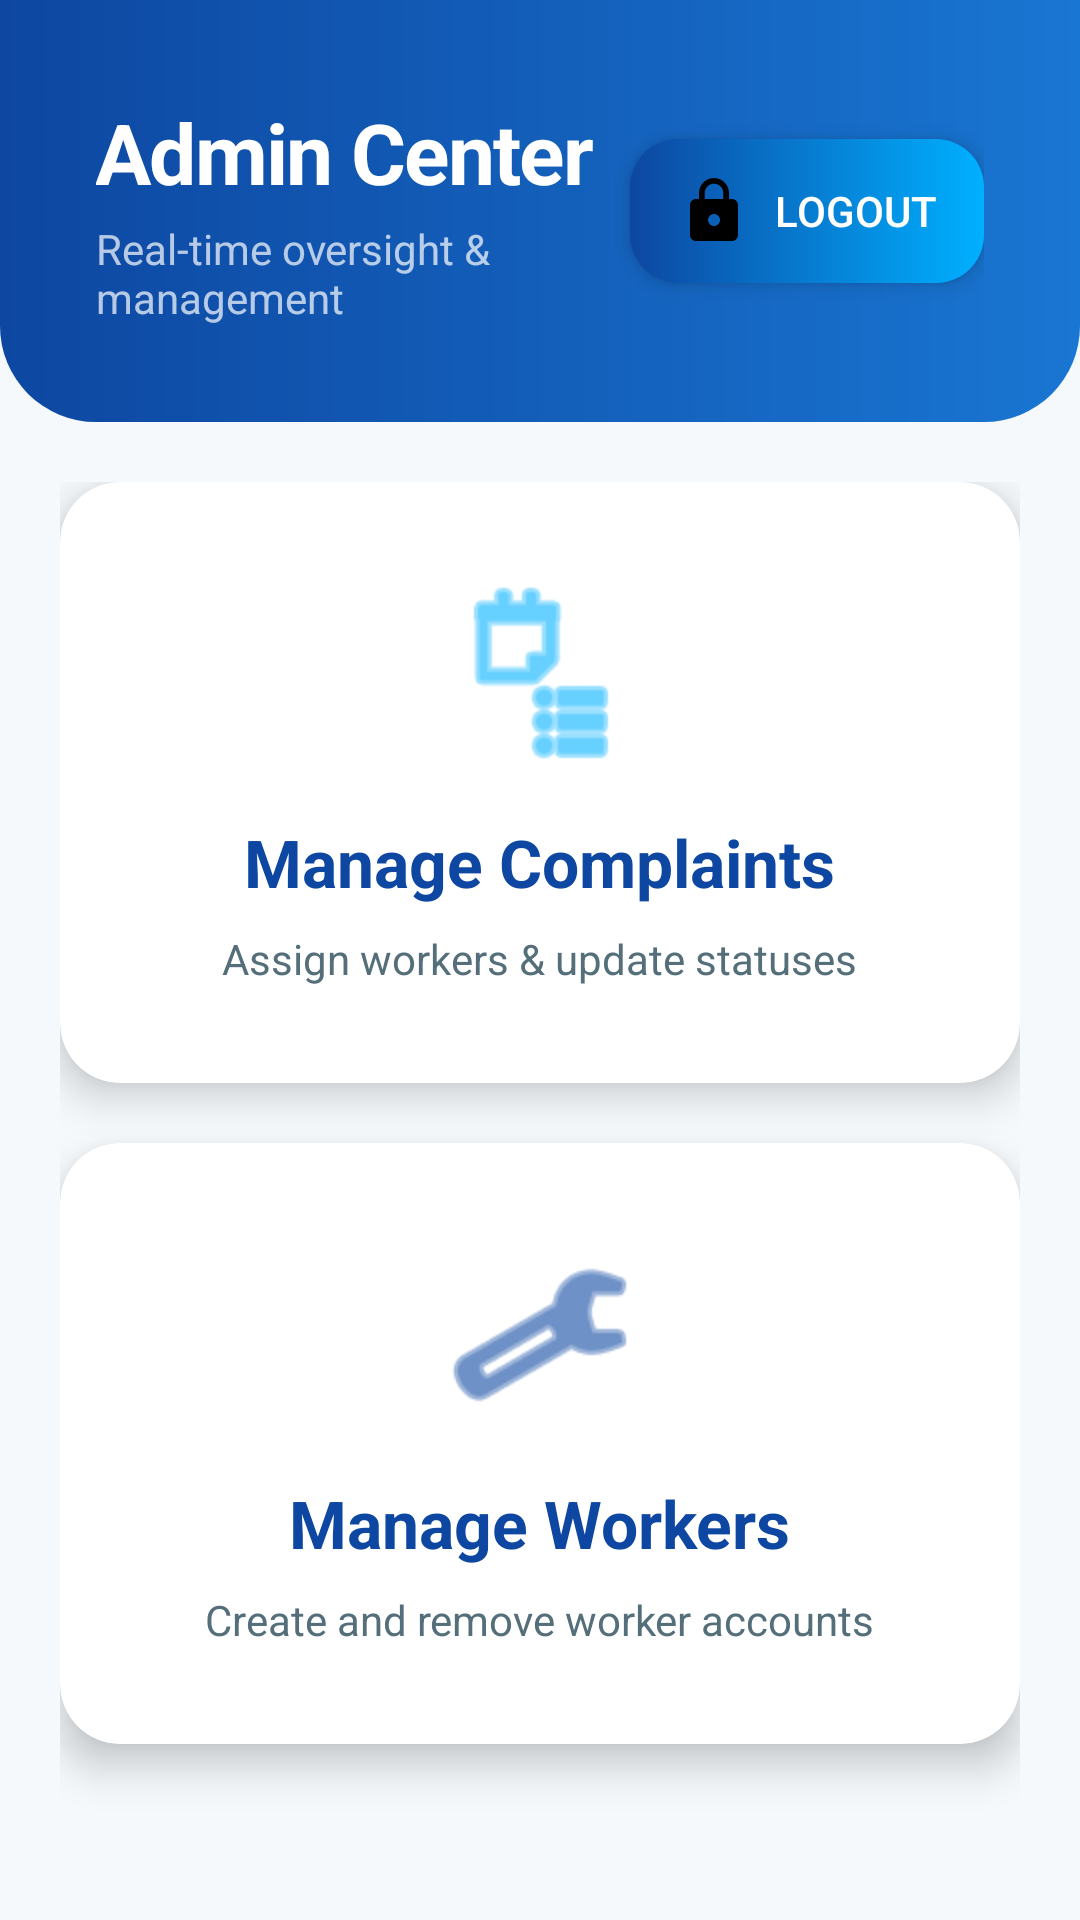

Icons on this 1080w x 1920h Android screen, each with the point to tap as (x=x, y=y):
agenda: (x=541, y=672)
